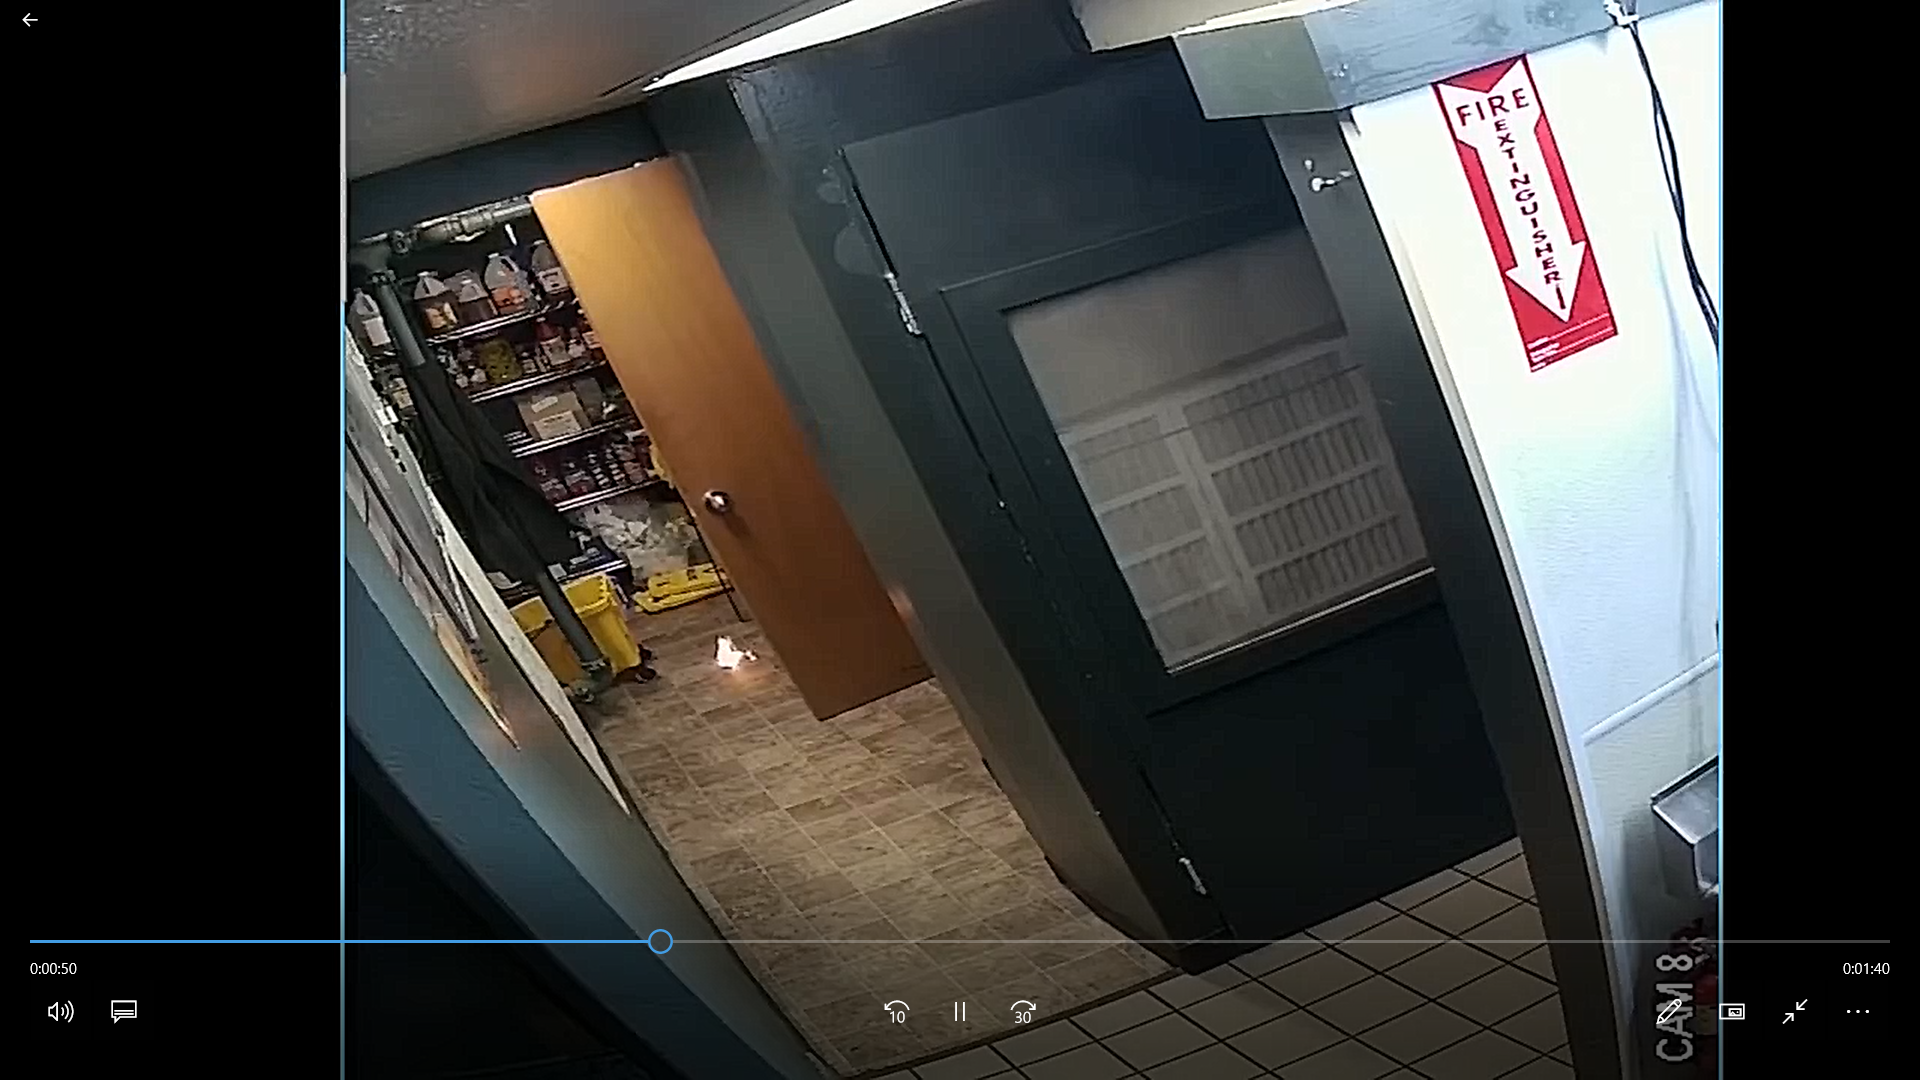fire: (702, 626, 761, 674)
